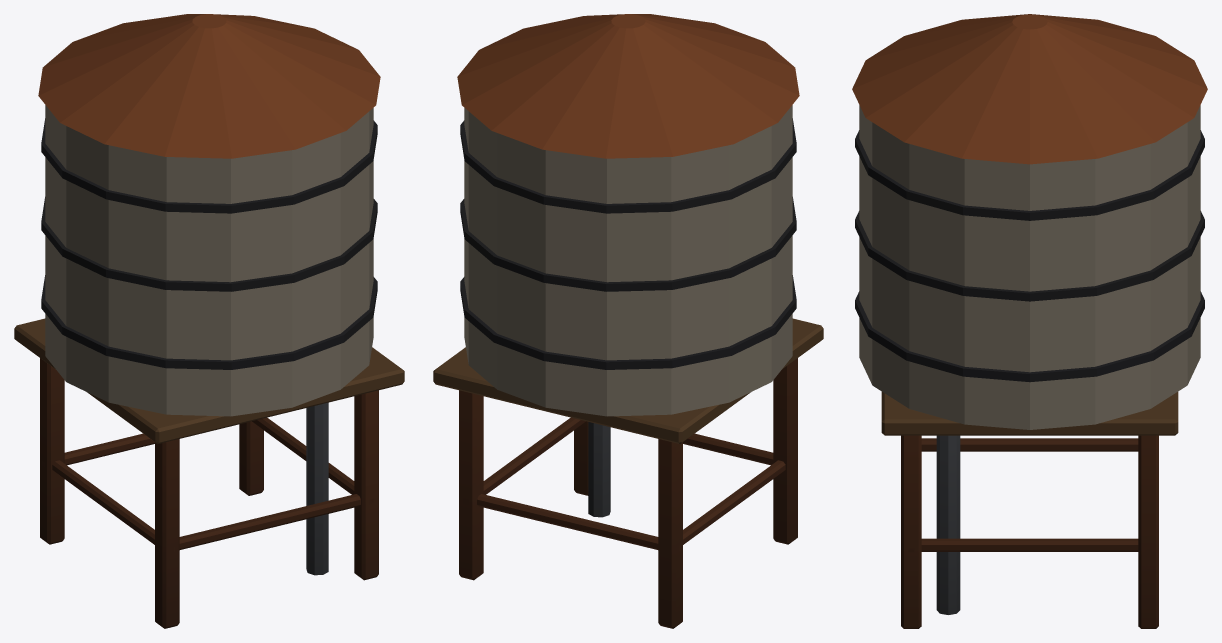
Rendered from water_tank.glb.
3 renders of one model, left to right at view 1: azimuth 30°, elevation 25°; view 2: azimuth 150°, elevation 25°; view 3: azimuth 270°, elevation 25°, orthographic. The views are drawn at different scales.
Parts seen in each view (by area): view 1: water_tank; view 2: water_tank; view 3: water_tank.
Boxes of the visible parts, left/top/right/bottom form: water_tank: left=14, top=14, right=404, bottom=628; water_tank: left=433, top=14, right=823, bottom=628; water_tank: left=852, top=14, right=1207, bottom=628.
Size of the model in its own units: 2.4 by 4.12 by 2.4.
